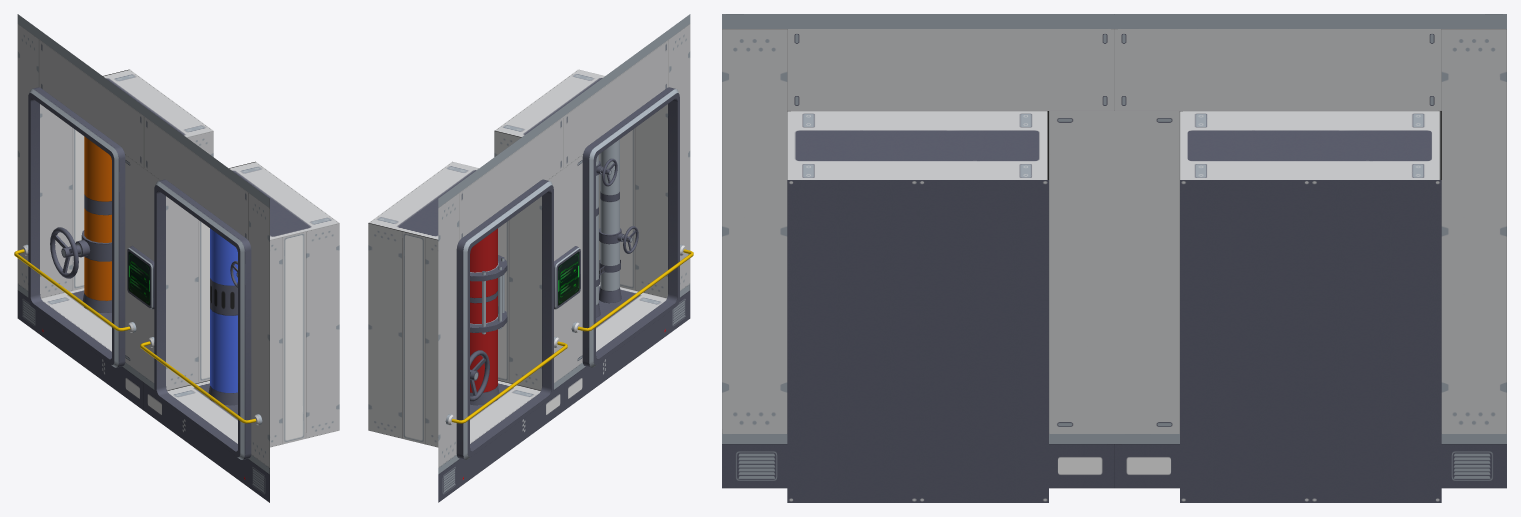
The model's file is Interior_Wall_Pipes_02.FBX.
3 renders of one model, left to right at view 1: azimuth 30°, elevation 25°; view 2: azimuth 150°, elevation 25°; view 3: azimuth 270°, elevation 25°, orthographic. The views are drawn at different scales.
Visible parts, largest first — view 1: Interior_Wall_Pipes_02, Wheel_A; view 2: Interior_Wall_Pipes_02, Wheel_A; view 3: Interior_Wall_Pipes_02.
Part boxes in pixels (bbox=[...]): Interior_Wall_Pipes_02: bbox=[14, 14, 339, 502]; Wheel_A: bbox=[50, 227, 81, 278]; Interior_Wall_Pipes_02: bbox=[368, 14, 693, 502]; Wheel_A: bbox=[470, 350, 489, 401]; Interior_Wall_Pipes_02: bbox=[722, 14, 1506, 502].
Bounding box in the file's own units: 1.46 × 4 × 6.
4 materials, 4 textured.
